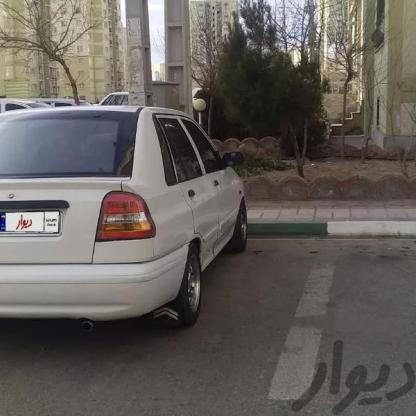Car: (0, 89, 261, 335)
